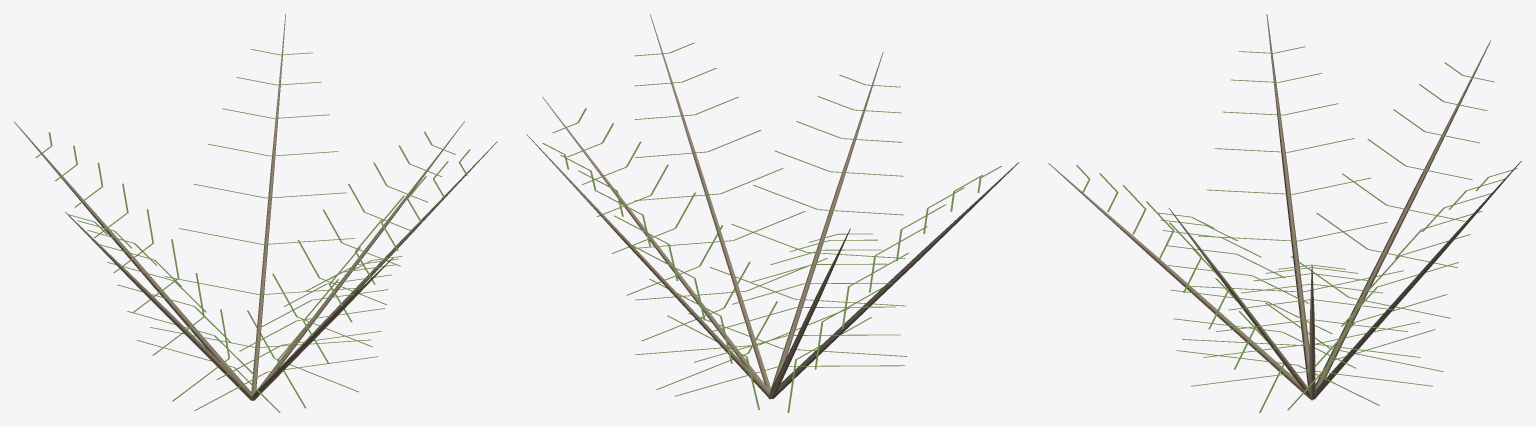
Rendered from fern_lod1.glb.
3 views of the same model, side by side, from view 1: azimuth 30°, elevation 25°; view 2: azimuth 150°, elevation 25°; view 3: azimuth 270°, elevation 25° (orthographic). The views are drawn at different scales.
Visible parts, largest first — view 1: Leaves, Bark; view 2: Leaves, Bark; view 3: Leaves, Bark.
Part boxes in pixels (x1,y1,x2,y2): Leaves: (35, 49, 470, 412); Bark: (14, 14, 497, 400); Leaves: (542, 42, 1001, 412); Bark: (526, 14, 1019, 399); Leaves: (1076, 46, 1517, 412); Bark: (1048, 14, 1521, 400).
Size of the model in its own units: 1.29 by 0.8332 by 1.16.
